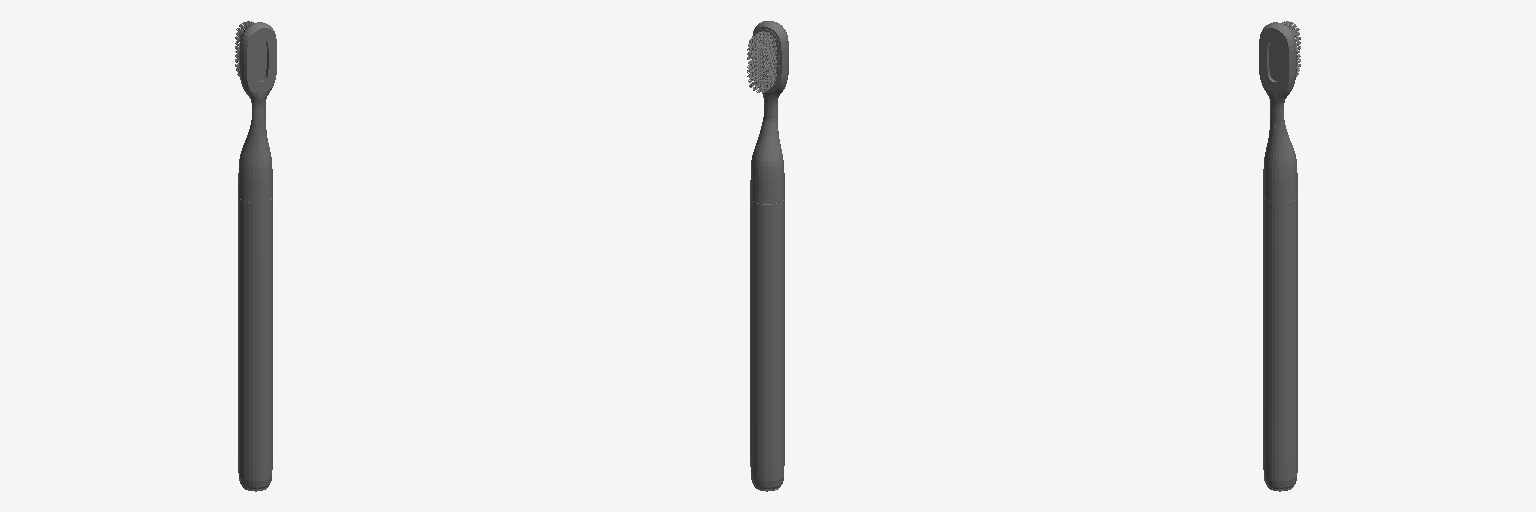
The robot description file, URDF, robot "object":
<?xml version="1.0"?>
<robot name="object">
  <link name="object">
    <visual>
      <origin xyz="0 0 0"/>
      <geometry>
        <mesh
          filename="../../mesh/oakink_virtual/toothbrush_maya5.stl" />
      </geometry>
      <material name="mat">
        <color rgba="0.5 0.5 0.5 1"/>
      </material>
    </visual>

    <collision>
      <origin xyz="0 0 0"/>
      <geometry>
        <mesh
          filename="../../mesh/oakink_virtual/toothbrush_maya5.stl" />
      </geometry>
    </collision>
  </link>
</robot>

--- What the picture shows (computed from the rendered views, not written in the file) ---
The picture shows the robot from 3 angles, left to right: view 1: azimuth 30°, elevation 25°; view 2: azimuth 150°, elevation 25°; view 3: azimuth 330°, elevation 25°; orthographic projection.
Model object with 1 links and 0 joints (none), rooted at object, posed every joint at zero.
Links seen in each view (by area): view 1: object; view 2: object; view 3: object.
Boxes of the visible links, <box> form: object: <box>235,21,276,491</box>; object: <box>747,21,788,491</box>; object: <box>1259,21,1300,491</box>.
Size in the robot's own frame: 0.0142 by 0.0131 by 0.181 metres.
Meshes: 1 distinct files referenced, 1 mesh visuals loaded (1 binary STL).